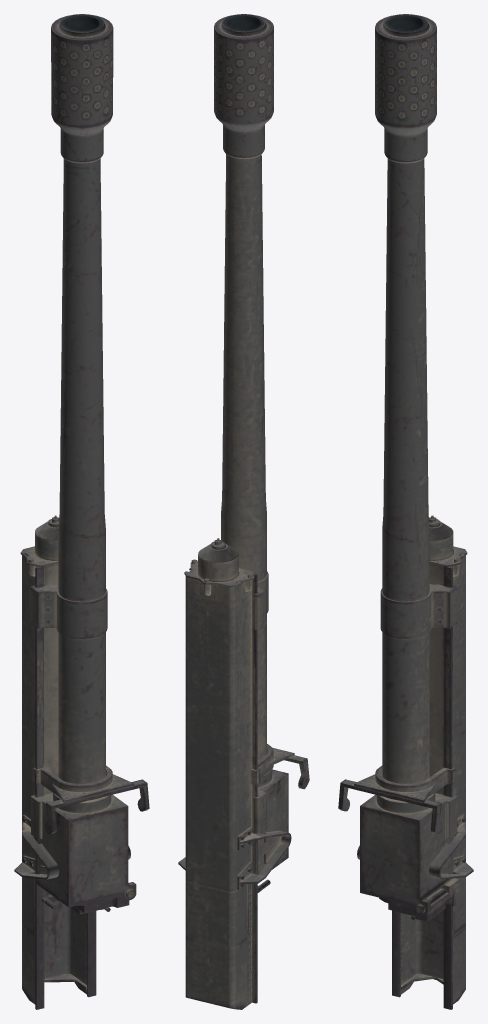
Rendered from Gun_02.glb.
3 views of the same model, side by side, from view 1: azimuth 30°, elevation 25°; view 2: azimuth 150°, elevation 25°; view 3: azimuth 330°, elevation 25° (orthographic). The views are drawn at different scales.
Parts seen in each view (by area): view 1: set_0_group_0; view 2: set_0_group_0; view 3: set_0_group_0.
Boxes of the visible parts, x1=… form: set_0_group_0: x1=14, y1=14, x2=149, y2=1009; set_0_group_0: x1=178, y1=14, x2=309, y2=1009; set_0_group_0: x1=338, y1=14, x2=473, y2=1009.
Size of the model in its own units: 0.6902 by 6.77 by 0.7372.
Materials: 1 (1 with a texture image).
